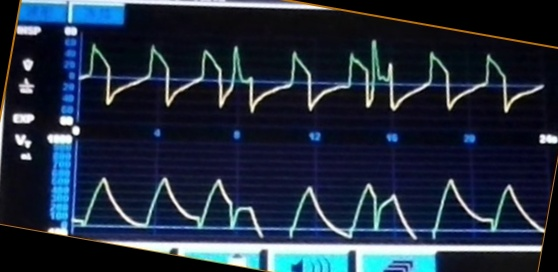Double_Triggering Flow: (95, 35, 511, 112)
Double_Triggering Volume: (79, 168, 520, 241)
